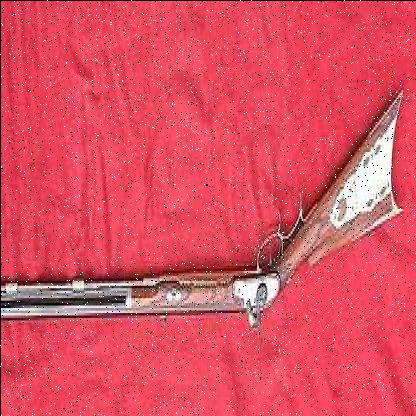rifle: (1, 79, 398, 384)
